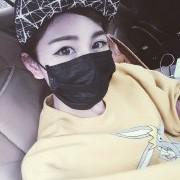OK: (45, 30, 117, 110)
